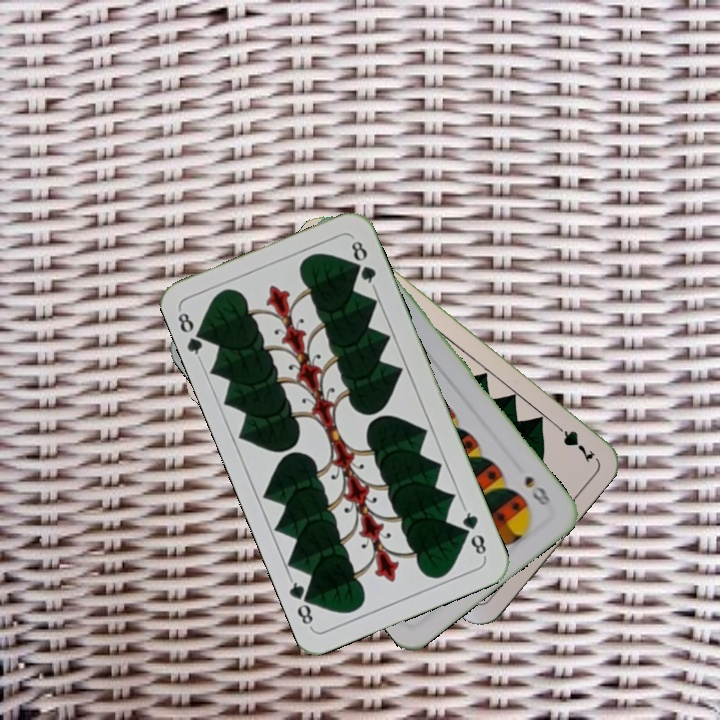G7: (548, 418, 598, 466)
G8: (173, 306, 211, 363), (458, 503, 489, 560)
S8: (520, 472, 555, 509)
